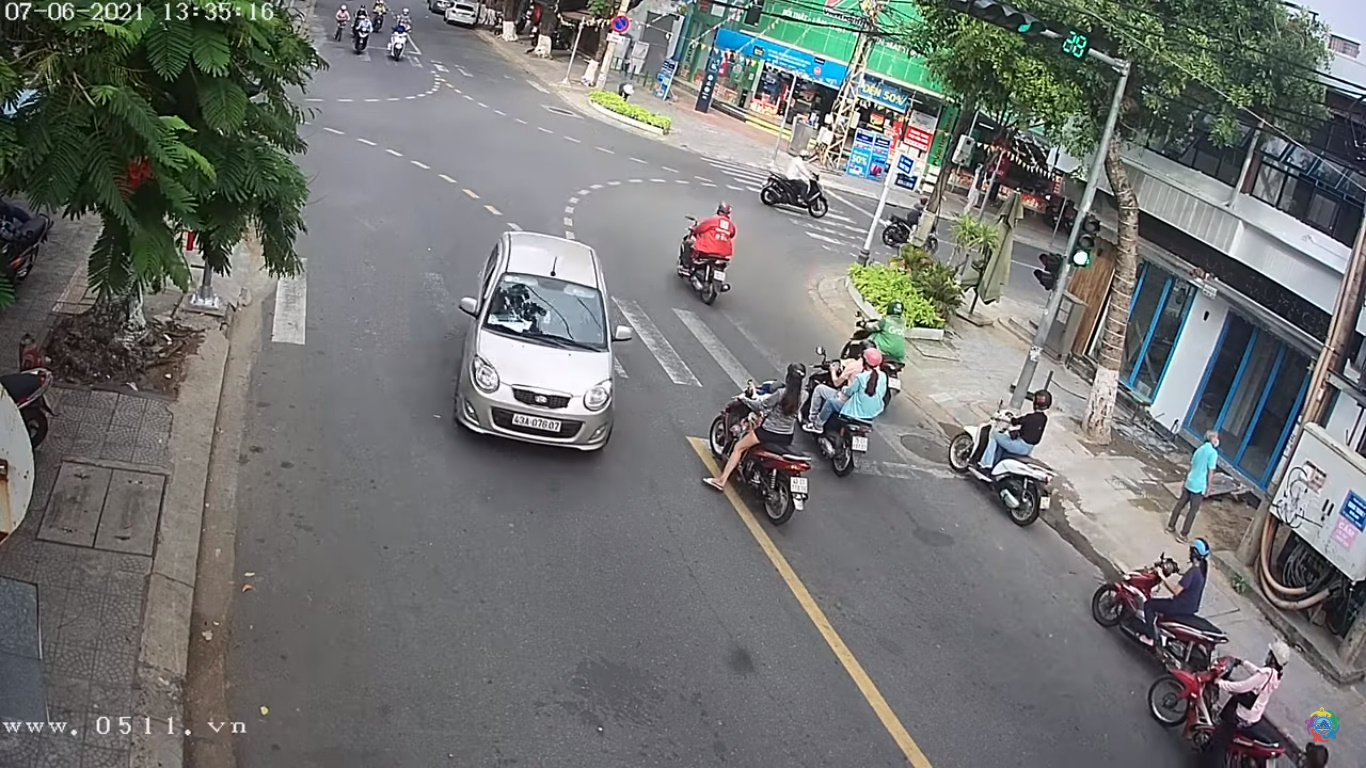car: (452, 222, 631, 460)
